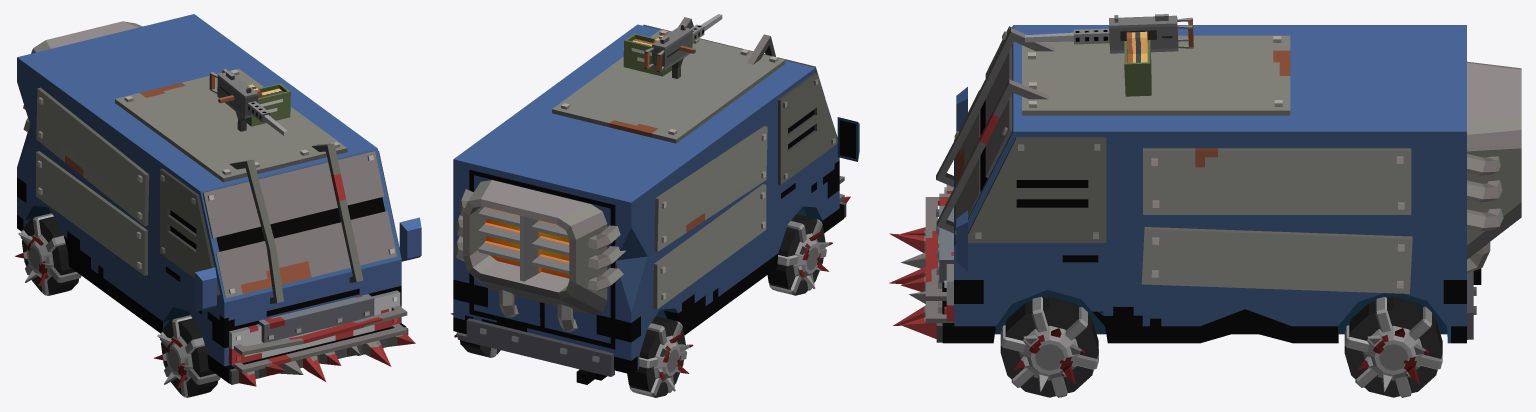
The model's file is 00_SA_Veh_Van.glb.
The picture shows the model from 3 angles, left to right: view 1: azimuth 30°, elevation 25°; view 2: azimuth 150°, elevation 25°; view 3: azimuth 270°, elevation 25°; orthographic projection. The views are drawn at different scales.
Visible parts, largest first — view 1: Body, armor_2, armor_4_part_A_R 6, armor_3_part_С, armor_1, armor_3_part_B_R 7, gun, armor_5, Wheel_A_3gr (×2), SA_Veh_Van_Wheel_FR, SA_Veh_Van_Wheel_BR, Wheel_A_1gr (×2) (+2 smaller); view 2: Body, Nitro, armor_3_part_С, armor_4_part_A_R 6, armor_3_part_B_R 7, armor_3_part_A 5, gun, Wheel_A_3gr (×2), SA_Veh_Van_Wheel_FR, SA_Veh_Van_Wheel_BR, Wheel_A_1gr (×2), Wheel_A_2gr (×2) (+1 smaller); view 3: Body, armor_4_part_A_L 6, armor_3_part_С, armor_3_part_B_L 7, Nitro, armor_2, gun, Wheel_A_1gr (×2), Wheel_A_3gr (×2), SA_Veh_Van_Wheel_FL, SA_Veh_Van_Wheel_BL, armor_1 (+2 smaller).
Boxes of the visible parts, bbox=[...] form: Body: bbox=[17, 14, 421, 383]; armor_2: bbox=[202, 143, 396, 303]; armor_4_part_A_R 6: bbox=[36, 87, 149, 275]; armor_3_part_С: bbox=[115, 68, 347, 182]; armor_1: bbox=[228, 290, 407, 373]; armor_3_part_B_R 7: bbox=[160, 168, 220, 295]; gun: bbox=[209, 68, 290, 135]; armor_5: bbox=[229, 327, 415, 386]; Wheel_A_3gr (×2): bbox=[20, 213, 220, 397]; SA_Veh_Van_Wheel_FR: bbox=[161, 318, 218, 396]; SA_Veh_Van_Wheel_BR: bbox=[22, 216, 78, 294]; Wheel_A_1gr (×2): bbox=[27, 234, 192, 382]; Body: bbox=[453, 24, 859, 384]; Nitro: bbox=[454, 180, 625, 331]; armor_3_part_С: bbox=[552, 29, 785, 143]; armor_4_part_A_R 6: bbox=[653, 126, 767, 309]; armor_3_part_B_R 7: bbox=[778, 73, 837, 184]; armor_3_part_A 5: bbox=[466, 318, 614, 376]; gun: bbox=[623, 14, 722, 78]; Wheel_A_3gr (×2): bbox=[629, 219, 826, 396]; SA_Veh_Van_Wheel_FR: bbox=[767, 214, 825, 295]; SA_Veh_Van_Wheel_BR: bbox=[627, 316, 685, 397]; Wheel_A_1gr (×2): bbox=[653, 233, 820, 382]; Wheel_A_2gr (×2): bbox=[658, 231, 832, 391]; Body: bbox=[942, 25, 1481, 343]; armor_4_part_A_L 6: bbox=[1141, 148, 1412, 293]; armor_3_part_С: bbox=[1022, 35, 1290, 115]; armor_3_part_B_L 7: bbox=[968, 137, 1106, 242]; Nitro: bbox=[1467, 61, 1521, 273]; armor_2: bbox=[936, 26, 1054, 240]; gun: bbox=[1025, 14, 1193, 96]; Wheel_A_1gr (×2): bbox=[1019, 325, 1423, 380]; Wheel_A_3gr (×2): bbox=[1000, 297, 1442, 397]; SA_Veh_Van_Wheel_FL: bbox=[1000, 297, 1098, 397]; SA_Veh_Van_Wheel_BL: bbox=[1344, 297, 1442, 397]; armor_1: bbox=[925, 184, 954, 323].
Size of what is drawn, in the model's own units: 3.64 by 4.09 by 7.18.
Materials: 1 (1 with a texture image).
